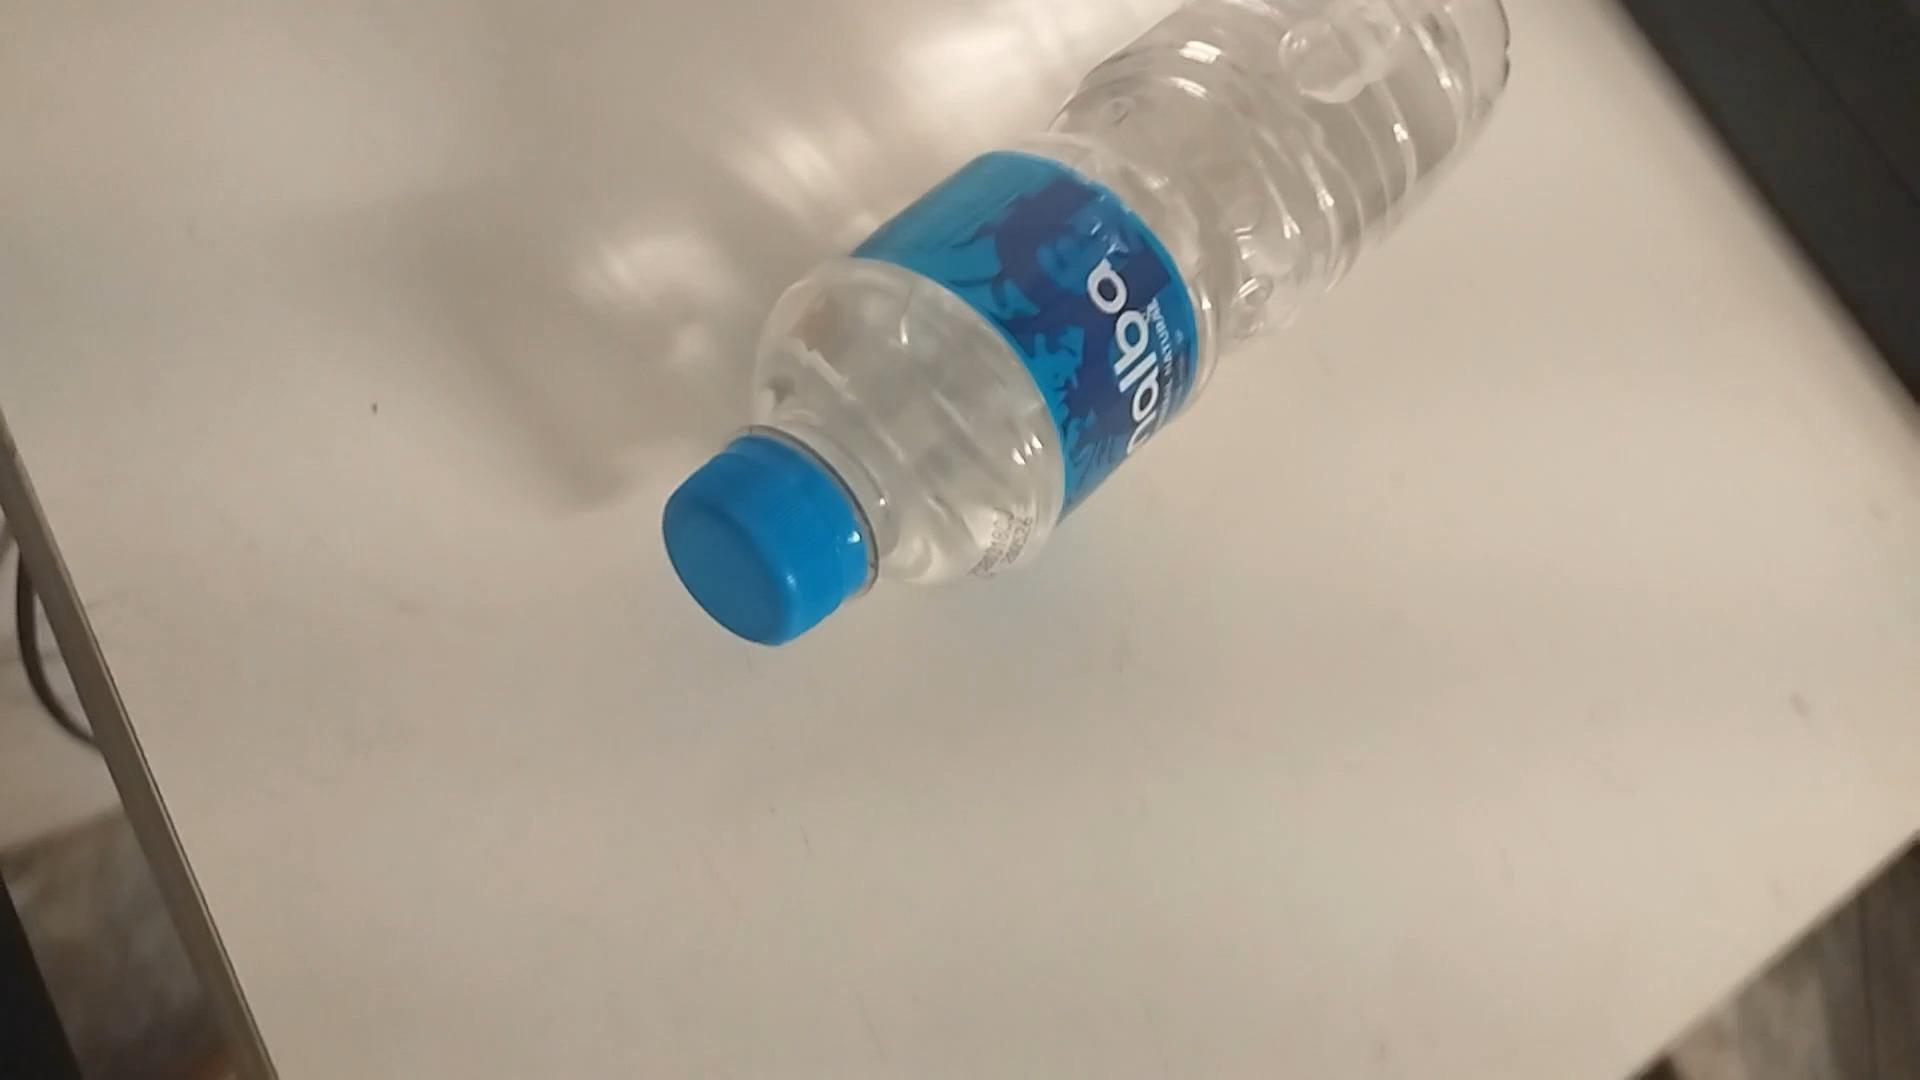agua: (674, 5, 1484, 651)
